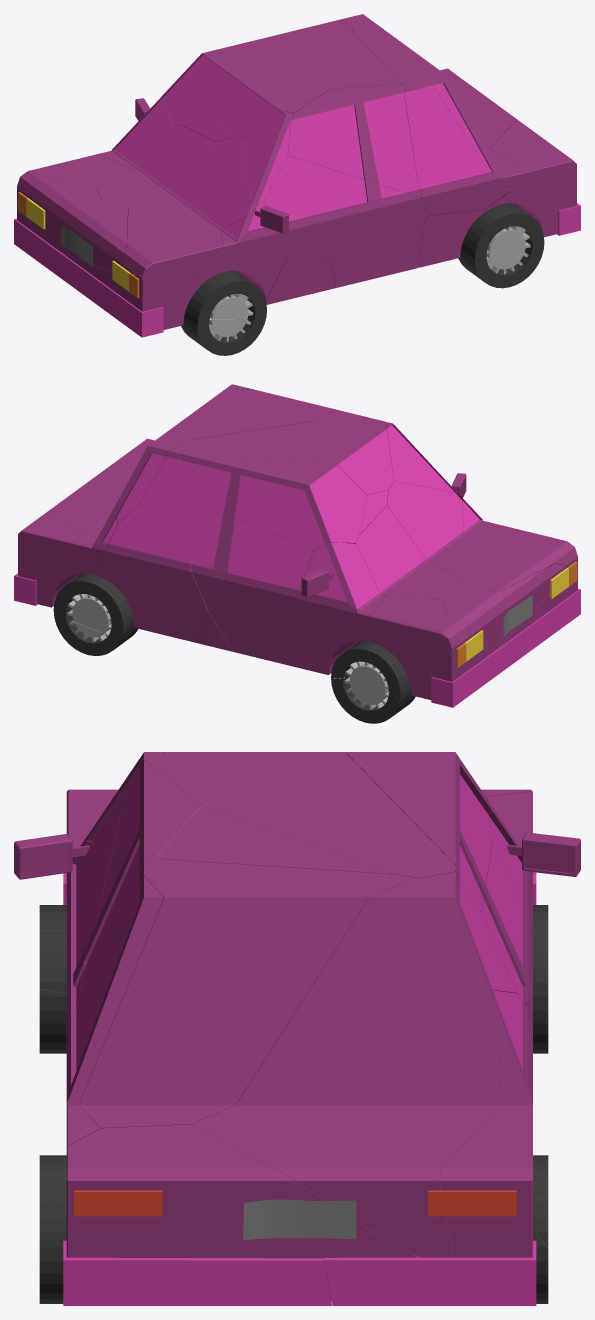
The model's file is Car One Purple Shatter.fbx.
The picture shows the model from 3 angles, top to bottom: view 1: azimuth 30°, elevation 25°; view 2: azimuth 150°, elevation 25°; view 3: azimuth 270°, elevation 25°; orthographic projection. The views are drawn at different scales.
Parts seen in each view (by area): view 1: Car Body.004_cell.012, Car Body.004_cell.011, Car Body.004_cell.013, Car Body.004_cell, Car Body.004_cell.020, Car Body.004_cell.025, Car Body.004_cell.008, Car Body.004_cell.001, Car Body.004_cell.027, Car Body.004_cell.015, Car Body.004_cell.034, Tire.019_cell.001 (+27 smaller); view 2: Car Body.004_cell.032, Car Body.004_cell.008, Car Body.004_cell.003, Car Body.004_cell, Car Body.004_cell.033, Car Body.004_cell.020, Car Body.004_cell.035, Car Body.004_cell.002, Car Body.004_cell.025, Car Body.004_cell.037, Car Body.004_cell.005, Car Body.004_cell.030 (+28 smaller); view 3: Car Body.004_cell.037, Car Body.004_cell.013, Car Body.004_cell.001, Car Body.004_cell.020, Back Bumper.004_cell, Car Body.004_cell.002, Car Body.004_cell.008, Back Bumper.004_cell.001, Car Body.004_cell.011, Car Body.004_cell.016, Car Body.004_cell.018, Car Body.004_cell.032 (+21 smaller).
Boxes of the visible parts, x1=… form: Car Body.004_cell.012: x1=264, y1=155, x2=429, y2=262; Car Body.004_cell.011: x1=287, y1=84, x2=421, y2=197; Car Body.004_cell.013: x1=352, y1=27, x2=518, y2=215; Car Body.004_cell: x1=119, y1=137, x2=256, y2=275; Car Body.004_cell.020: x1=218, y1=21, x2=353, y2=139; Car Body.004_cell.025: x1=96, y1=124, x2=216, y2=206; Car Body.004_cell.008: x1=162, y1=23, x2=325, y2=124; Car Body.004_cell.001: x1=491, y1=119, x2=576, y2=237; Car Body.004_cell.027: x1=191, y1=201, x2=287, y2=300; Car Body.004_cell.015: x1=331, y1=223, x2=424, y2=287; Car Body.004_cell.034: x1=240, y1=110, x2=293, y2=206; Tire.019_cell.001: x1=467, y1=206, x2=536, y2=288; Car Body.004_cell.032: x1=191, y1=505, x2=313, y2=662; Car Body.004_cell.008: x1=180, y1=454, x2=367, y2=549; Car Body.004_cell.003: x1=91, y1=504, x2=208, y2=642; Car Body.004_cell: x1=387, y1=481, x2=576, y2=578; Car Body.004_cell.033: x1=278, y1=541, x2=385, y2=674; Car Body.004_cell.020: x1=176, y1=420, x2=393, y2=494; Car Body.004_cell.035: x1=367, y1=596, x2=467, y2=699; Car Body.004_cell.002: x1=18, y1=503, x2=118, y2=607; Car Body.004_cell.025: x1=355, y1=506, x2=464, y2=641; Car Body.004_cell.037: x1=46, y1=429, x2=180, y2=584; Car Body.004_cell.005: x1=140, y1=445, x2=204, y2=556; Car Body.004_cell.030: x1=441, y1=590, x2=505, y2=670; Car Body.004_cell.037: x1=191, y1=877, x2=503, y2=1257; Car Body.004_cell.013: x1=66, y1=858, x2=414, y2=1130; Car Body.004_cell.001: x1=66, y1=1124, x2=372, y2=1261; Car Body.004_cell.020: x1=145, y1=752, x2=457, y2=877; Back Bumper.004_cell: x1=63, y1=1240, x2=331, y2=1305; Car Body.004_cell.002: x1=439, y1=1014, x2=532, y2=1257; Car Body.004_cell.008: x1=345, y1=752, x2=493, y2=911; Back Bumper.004_cell.001: x1=324, y1=1240, x2=536, y2=1305; Car Body.004_cell.011: x1=67, y1=760, x2=201, y2=1030; Car Body.004_cell.016: x1=157, y1=806, x2=393, y2=873; Car Body.004_cell.018: x1=66, y1=876, x2=163, y2=1146; Car Body.004_cell.032: x1=481, y1=837, x2=532, y2=1014.
Size of the model in its own units: 357 by 154 by 215.
